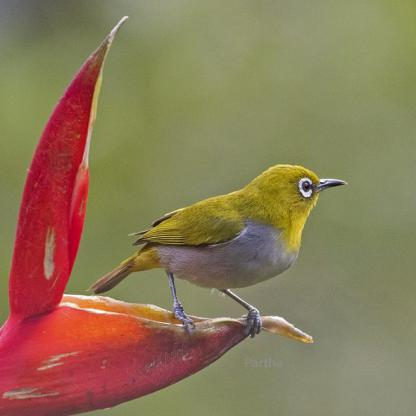Burung: (87, 164, 347, 339)
